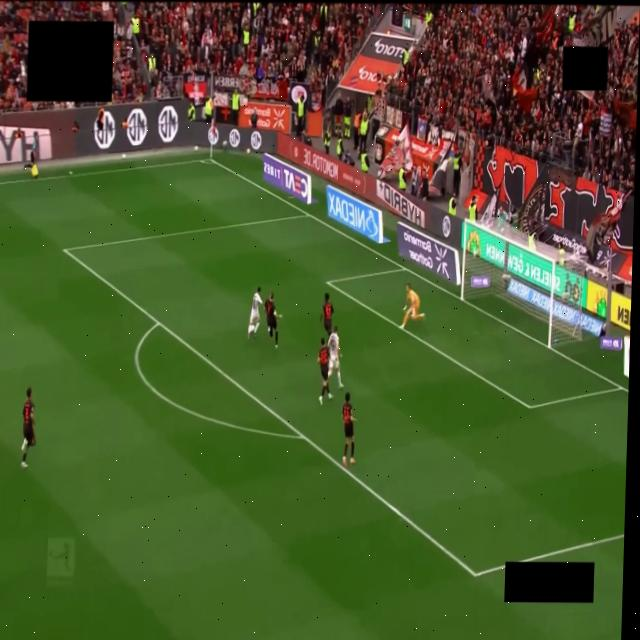player: (20, 388, 35, 467), (399, 283, 423, 328), (342, 393, 355, 466), (317, 338, 331, 403), (264, 292, 280, 348), (328, 327, 342, 388), (247, 287, 261, 338), (321, 293, 333, 336)
